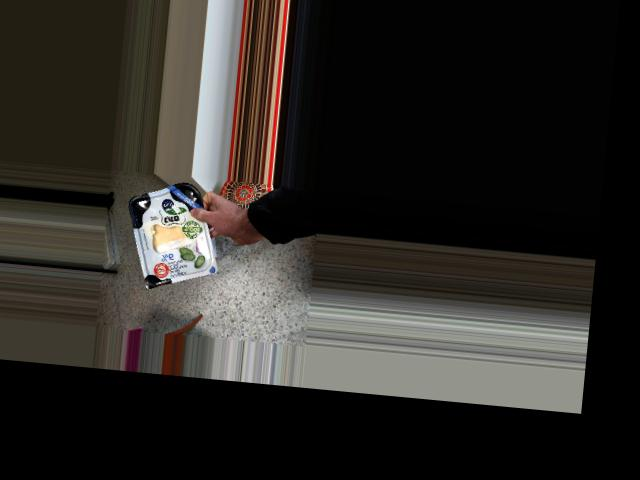cheese: (134, 188, 210, 280)
